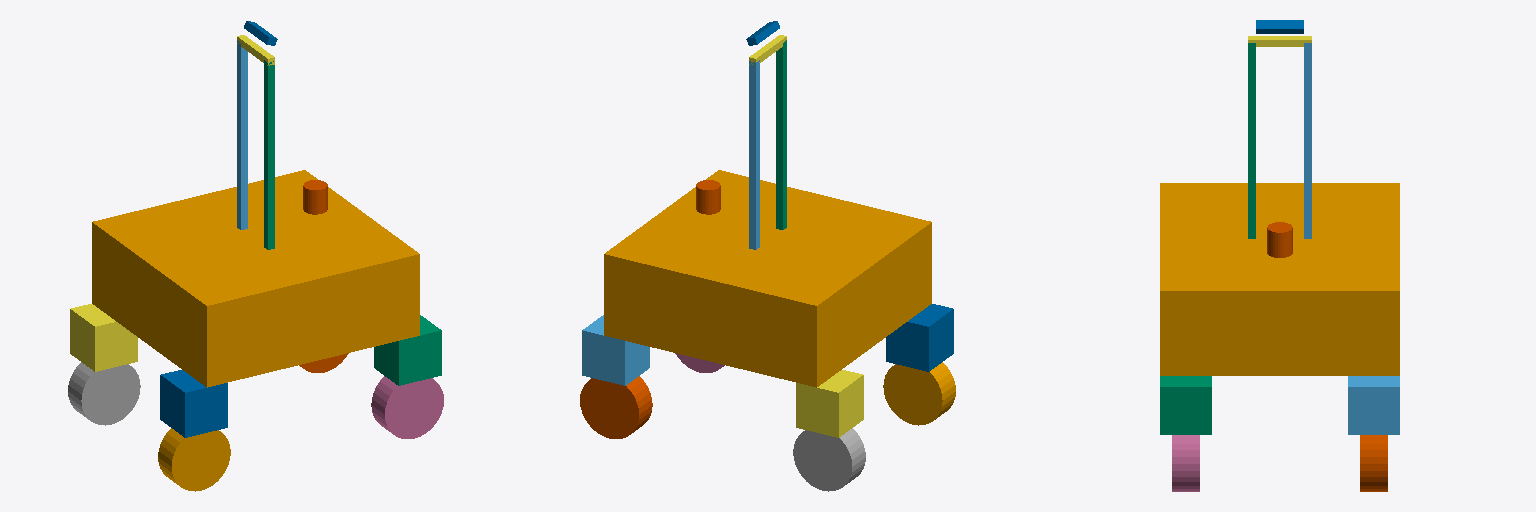
robot.urdf — steve:
<?xml version="1.0" ?>
<robot name="steve" xmlns:xacro="http://www.ros.org/wiki/xacro">
    <link name="link_base">
        <pose>0 0 0.606 0 0 0</pose>
        <inertial>
            <mass value="5"/>
            <origin xyz="0 0 0.606" rpy="0 0 0"/>
        <inertia ixx="0.1" ixy="0" ixz="0" iyy="0.1" iyz="0" izz="0.1"/>
        </inertial>
        <visual name="link_base_visual">
            <geometry>
                <box size="0.914 0.854 0.334"/>
            </geometry>
            <origin xyz="0 0 0.606" rpy="0 0 0"/>
        </visual>
        <collision name="link_base_collision">
            <geometry>
                <box size="0.914 0.854 0.334"/>
            </geometry>
            <origin xyz="0 0 0.606" rpy="0 0 0"/>
        </collision>
    </link>
    <link name="link_wheel_holder_3">
        <pose>0 0 -0.0925 0 0 0</pose>
        <inertial>
            <mass value="1"/>
            <origin xyz="0 0 -0.0925" rpy="0 0 0"/>
        <inertia ixx="0.1" ixy="0" ixz="0" iyy="0.1" iyz="0" izz="0.1"/>
        </inertial>
        <visual name="link_wheel_holder_3_visual">
            <geometry>
                <box size="0.185 0.185 0.185"/>
            </geometry>
            <origin xyz="0 0 -0.0925" rpy="0 0 0"/>
        </visual>
        <collision name="llink_wheel_holder_3_collision">
            <geometry>
                <box size="0.185 0.185 0.185"/>
            </geometry>
            <origin xyz="0 0 -0.0925" rpy="0 0 0"/>
        </collision>
    </link>
    <joint name="joint_link_link_base_wheel_holder_3" type="revolute">
        <origin rpy="0 0 0" xyz="0.457 0.3345 0.439"/>
        <axis rpy="0 0 0" xyz="0 0 1"/>
        <limit lower="-3.14" upper="3.14" effort="10" velocity="1.0"/>
        <dynamics damping="10.0" friction="0.5"/>
        <child link="link_wheel_holder_3"/>
        <parent link="link_base"/>
    </joint>
    <link name="link_wheel_holder_4">
        <pose>0 0 -0.0925 0 0 0</pose>
        <inertial>
            <mass value="1"/>
            <origin xyz="0 0 -0.0925" rpy="0 0 0"/>
        <inertia ixx="0.1" ixy="0" ixz="0" iyy="0.1" iyz="0" izz="0.1"/>
        </inertial>
        <visual name="link_wheel_holder_4_visual">
            <geometry>
                <box size="0.185 0.185 0.185"/>
            </geometry>
            <origin xyz="0 0 -0.0925" rpy="0 0 0"/>
        </visual>
        <collision name="llink_wheel_holder_4_collision">
            <geometry>
                <box size="0.185 0.185 0.185"/>
            </geometry>
            <origin xyz="0 0 -0.0925" rpy="0 0 0"/>
        </collision>
    </link>
    <joint name="joint_link_link_base_wheel_holder_4" type="revolute">
        <origin rpy="0 0 0" xyz="0.457 -0.3345 0.439"/>
        <axis rpy="0 0 0" xyz="0 0 1"/>
        <limit lower="-3.14" upper="3.14" effort="10" velocity="1.0"/>
        <dynamics damping="10.0" friction="0.5"/>
        <child link="link_wheel_holder_4"/>
        <parent link="link_base"/>
    </joint>
    <link name="link_wheel_holder_5">
        <pose>0 0 -0.0925 0 0 0</pose>
        <inertial>
            <mass value="1"/>
            <origin xyz="0 0 -0.0925" rpy="0 0 0"/>
        <inertia ixx="0.1" ixy="0" ixz="0" iyy="0.1" iyz="0" izz="0.1"/>
        </inertial>
        <visual name="link_wheel_holder_5_visual">
            <geometry>
                <box size="0.185 0.185 0.185"/>
            </geometry>
            <origin xyz="0 0 -0.0925" rpy="0 0 0"/>
        </visual>
        <collision name="llink_wheel_holder_5_collision">
            <geometry>
                <box size="0.185 0.185 0.185"/>
            </geometry>
            <origin xyz="0 0 -0.0925" rpy="0 0 0"/>
        </collision>
    </link>
    <joint name="joint_link_link_base_wheel_holder_5" type="revolute">
        <origin rpy="0 0 0" xyz="-0.457 0.3345 0.439"/>
        <axis rpy="0 0 0" xyz="0 0 1"/>
        <limit lower="-3.14" upper="3.14" effort="10" velocity="1.0"/>
        <dynamics damping="10.0" friction="0.5"/>
        <child link="link_wheel_holder_5"/>
        <parent link="link_base"/>
    </joint>
    <link name="link_wheel_holder_6">
        <pose>0 0 -0.0925 0 0 0</pose>
        <inertial>
            <mass value="1"/>
            <origin xyz="0 0 -0.0925" rpy="0 0 0"/>
        <inertia ixx="0.1" ixy="0" ixz="0" iyy="0.1" iyz="0" izz="0.1"/>
        </inertial>
        <visual name="link_wheel_holder_6_visual">
            <geometry>
                <box size="0.185 0.185 0.185"/>
            </geometry>
            <origin xyz="0 0 -0.0925" rpy="0 0 0"/>
        </visual>
        <collision name="llink_wheel_holder_6_collision">
            <geometry>
                <box size="0.185 0.185 0.185"/>
            </geometry>
            <origin xyz="0 0 -0.0925" rpy="0 0 0"/>
        </collision>
    </link>
    <joint name="joint_link_link_base_wheel_holder_6" type="revolute">
        <origin rpy="0 0 0" xyz="-0.457 -0.3345 0.439"/>
        <axis rpy="0 0 0" xyz="0 0 1"/>
        <limit lower="-3.14" upper="3.14" effort="10" velocity="1.0"/>
        <dynamics damping="10.0" friction="0.5"/>
        <child link="link_wheel_holder_6"/>
        <parent link="link_base"/>
    </joint>
    <link name="link_wheel_3">
        <pose>0 0 0 1.57 0 0</pose>
        <inertial>
            <mass value="1"/>
            <origin xyz="0 0 0" rpy="1.57 0 0"/>
        <inertia ixx="0.1" ixy="0" ixz="0" iyy="0.1" iyz="0" izz="0.1"/>
        </inertial>
        <visual name="link_wheel_3_visual">
            <geometry>
                <cylinder length="0.1" radius="0.127"/>
            </geometry>
            <origin xyz="0 0 0" rpy="1.57 0 0"/>
        </visual>
        <collision name="link_wheel_3_collision">
            <geometry>
                <cylinder length="0.1" radius="0.127"/>
            </geometry>
            <origin xyz="0 0 0" rpy="1.57 0 0"/>
        </collision>
    </link>
    <joint name="joint_link_wheel_holder_3_link_wheel_3" type="continuous">
        <origin rpy="0 0 0" xyz="0 0 -0.312"/>
        <axis rpy="0 0 0" xyz="0 1 0"/>
        <limit effort="10000" velocity="1000"/>
        <joint_properties damping="1.0" friction="1.0"/>
        <child link="link_wheel_3"/>
        <parent link="link_wheel_holder_3"/>
    </joint>
    <link name="link_wheel_4">
        <pose>0 0 0 1.57 0 0</pose>
        <inertial>
            <mass value="1"/>
            <origin xyz="0 0 0" rpy="1.57 0 0"/>
        <inertia ixx="0.1" ixy="0" ixz="0" iyy="0.1" iyz="0" izz="0.1"/>
        </inertial>
        <visual name="link_wheel_4_visual">
            <geometry>
                <cylinder length="0.1" radius="0.127"/>
            </geometry>
            <origin xyz="0 0 0" rpy="1.57 0 0"/>
        </visual>
        <collision name="link_wheel_4_collision">
            <geometry>
                <cylinder length="0.1" radius="0.127"/>
            </geometry>
            <origin xyz="0 0 0" rpy="1.57 0 0"/>
        </collision>
    </link>
    <joint name="joint_link_wheel_holder_4_link_wheel_4" type="continuous">
        <origin rpy="0 0 0" xyz="0 0 -0.312"/>
        <axis rpy="0 0 0" xyz="0 1 0"/>
        <limit effort="10000" velocity="1000"/>
        <joint_properties damping="1.0" friction="1.0"/>
        <child link="link_wheel_4"/>
        <parent link="link_wheel_holder_4"/>
    </joint>
    <link name="link_wheel_5">
        <pose>0 0 0 1.57 0 0</pose>
        <inertial>
            <mass value="1"/>
            <origin xyz="0 0 0" rpy="1.57 0 0"/>
        <inertia ixx="0.1" ixy="0" ixz="0" iyy="0.1" iyz="0" izz="0.1"/>
        </inertial>
        <visual name="link_wheel_5_visual">
            <geometry>
                <cylinder length="0.1" radius="0.127"/>
            </geometry>
            <origin xyz="0 0 0" rpy="1.57 0 0"/>
        </visual>
        <collision name="link_wheel_5_collision">
            <geometry>
                <cylinder length="0.1" radius="0.127"/>
            </geometry>
            <origin xyz="0 0 0" rpy="1.57 0 0"/>
        </collision>
    </link>
    <joint name="joint_link_wheel_holder_5_link_wheel_5" type="continuous">
        <origin rpy="0 0 0" xyz="0 0 -0.312"/>
        <axis rpy="0 0 0" xyz="0 1 0"/>
        <limit effort="10000" velocity="1000"/>
        <joint_properties damping="1.0" friction="1.0"/>
        <child link="link_wheel_5"/>
        <parent link="link_wheel_holder_5"/>
    </joint>
    <link name="link_wheel_6">
        <pose>0 0 0 1.57 0 0</pose>
        <inertial>
            <mass value="1"/>
            <origin xyz="0 0 0" rpy="1.57 0 0"/>
        <inertia ixx="0.1" ixy="0" ixz="0" iyy="0.1" iyz="0" izz="0.1"/>
        </inertial>
        <visual name="link_wheel_6_visual">
            <geometry>
                <cylinder length="0.1" radius="0.127"/>
            </geometry>
            <origin xyz="0 0 0" rpy="1.57 0 0"/>
        </visual>
        <collision name="link_wheel_6_collision">
            <geometry>
                <cylinder length="0.1" radius="0.127"/>
            </geometry>
            <origin xyz="0 0 0" rpy="1.57 0 0"/>
        </collision>
    </link>
    <joint name="joint_link_wheel_holder_6_link_wheel_6" type="continuous">
        <origin rpy="0 0 0" xyz="0 0 -0.312"/>
        <axis rpy="0 0 0" xyz="0 1 0"/>
        <limit effort="10000" velocity="1000"/>
        <joint_properties damping="1.0" friction="1.0"/>
        <child link="link_wheel_6"/>
        <parent link="link_wheel_holder_6"/>
    </joint>
    <!-- Plugins -->
       <!-- <gazebo>
        <plugin filename="libgazebo_ros_diff_drive.so" name="gazebo_base_controller">
            <odometry_frame>odom</odometry_frame>
            <commandTopic>cmd_vel</commandTopic>
            <publish_odom>true</publish_odom>
            <publish_odom_tf>true</publish_odom_tf>
            <update_rate>15.0</update_rate>
            <left_joint>joint_link_wheel_holder_3_link_wheel_3</left_joint>
            <right_joint>joint_link_wheel_holder_4_link_wheel_4</right_joint>
            <wheel_separation>0.606</wheel_separation>
            <wheel_diameter>0.254</wheel_diameter>
            <max_wheel_acceleration>0.7</max_wheel_acceleration>
            <robotBaseFrame>link_base</robotBaseFrame>
        </plugin>
    </gazebo>
       <gazebo>
        <plugin filename="libgazebo_ros_diff_drive.so" name="gazebo_base_controller1">
            <odometry_frame>odom</odometry_frame>
            <commandTopic>cmd_vel</commandTopic>
            <publish_odom>true</publish_odom>
            <publish_odom_tf>true</publish_odom_tf>
            <update_rate>15.0</update_rate>
            <left_joint>joint_link_wheel_holder_5_link_wheel_5</left_joint>
            <right_joint>joint_link_wheel_holder_6_link_wheel_6</right_joint>
            <wheel_separation>0.606</wheel_separation>
            <wheel_diameter>0.254</wheel_diameter>
            <max_wheel_acceleration>0.7</max_wheel_acceleration>
            <robotBaseFrame>link_base</robotBaseFrame>
        </plugin>
    </gazebo> -->
    <gazebo>
        <plugin name="ackermann_drive" filename="libackerman_drive_plugin.so">
            <updateRate>20</updateRate>
            <commandTopic>cmd_vel</commandTopic>
            <odometryTopic>odom</odometryTopic>
            <odometryFrame>odom</odometryFrame>
            <robotBaseFrame>link_base</robotBaseFrame>
            <publish_odom_tf>false</publish_odom_tf>
            <!-- Robot Dim -->
            <wheelRadius>0.127</wheelRadius>
            <wheelSeperation>0.914</wheelSeperation>
            <wheelBase>0.854</wheelBase>
            <!-- Wheel Joints -->
            <front_left_wheel_joint>joint_link_wheel_holder_3_link_wheel_3</front_left_wheel_joint>
            <front_right_wheel_joint>joint_link_wheel_holder_4_link_wheel_4</front_right_wheel_joint>
            <back_left_wheel_joint>joint_link_wheel_holder_5_link_wheel_5</back_left_wheel_joint>
            <back_right_wheel_joint>joint_link_wheel_holder_6_link_wheel_6</back_right_wheel_joint>
            <!-- Stepper Joints -->
            <front_left_stepper_joint>joint_link_link_base_wheel_holder_3</front_left_stepper_joint>
            <front_right_stepper_joint>joint_link_link_base_wheel_holder_4</front_right_stepper_joint>
            <back_left_stepper_joint>joint_link_link_base_wheel_holder_5</back_left_stepper_joint>
            <back_right_stepper_joint>joint_link_link_base_wheel_holder_6</back_right_stepper_joint>
        </plugin>
    </gazebo>
    <!-- Colors -->
    <gazebo reference="link_base">
        <material>Gazebo/Orange</material>
    </gazebo>
    <gazebo reference="link_wheel_3">
        <material>Gazebo/Blue</material>
    </gazebo>
    <gazebo reference="link_wheel_4">
        <material>Gazebo/Blue</material>
    </gazebo>
    <gazebo reference="link_wheel_5">
        <material>Gazebo/Blue</material>
    </gazebo>
    <gazebo reference="link_wheel_6">
        <material>Gazebo/Blue</material>
    </gazebo>
    <gazebo reference="link_wheel_holder_3">
        <material>Gazebo/Green</material>
    </gazebo>
    <gazebo reference="link_wheel_holder_4">
        <material>Gazebo/Green</material>
    </gazebo>
    <gazebo reference="link_wheel_holder_5">
        <material>Gazebo/Green</material>
    </gazebo>
    <gazebo reference="link_wheel_holder_6">
        <material>Gazebo/Green</material>
    </gazebo>
    <!-- Camera Construction-->
    <link name="link_camera_support_left">
        <pose>0 0 0 0 0 0</pose>
        <inertial>
            <mass value="0.3"/>
            <origin xyz="0 0 0" rpy="0 0 0"/>
        <inertia ixx="0.1" ixy="0" ixz="0" iyy="0.1" iyz="0" izz="0.1"/>
        </inertial>
        <visual name="link_camera_support_left_visual">
            <geometry>
                <box size="0.03 0.03 0.768"/>
            </geometry>
            <origin xyz="0 0 0" rpy="0 0 0"/>
        </visual>
        <collision name="link_camera_support_left_collision">
            <geometry>
                <box size="0.03 0.03 0.768"/>
            </geometry>
            <origin xyz="0 0 0" rpy="0 0 0"/>
        </collision>
    </link>
    <joint name="joint_link_base_link_camera_support_left" type="fixed">
        <origin rpy="0 0 0" xyz="0 0.1 1.157"/>
        <child link="link_camera_support_left"/>
        <parent link="link_base"/>
    </joint>
    <link name="link_camera_support_right">
        <pose>0 0 0 0 0 0</pose>
        <inertial>
            <mass value="0.3"/>
            <origin xyz="0 0 0" rpy="0 0 0"/>
        <inertia ixx="0.1" ixy="0" ixz="0" iyy="0.1" iyz="0" izz="0.1"/>
        </inertial>
        <visual name="link_camera_support_right_visual">
            <geometry>
                <box size="0.03 0.03 0.768"/>
            </geometry>
            <origin xyz="0 0 0" rpy="0 0 0"/>
        </visual>
        <collision name="link_camera_support_right_collision">
            <geometry>
                <box size="0.03 0.03 0.768"/>
            </geometry>
            <origin xyz="0 0 0" rpy="0 0 0"/>
        </collision>
    </link>
    <joint name="joint_link_base_link_camera_support_right" type="fixed">
        <origin rpy="0 0 0" xyz="0 -0.1 1.157"/>
        <child link="link_camera_support_right"/>
        <parent link="link_base"/>
    </joint>
    <link name="link_camera_support">
        <pose>0 0 0 0 0 0</pose>
        <inertial>
            <mass value="0.3"/>
            <origin xyz="0 0 0" rpy="0 0 0"/>
        <inertia ixx="0.1" ixy="0" ixz="0" iyy="0.1" iyz="0" izz="0.1"/>
        </inertial>
        <visual name="link_camera_support_visual">
            <geometry>
                <box size="0.03 0.23 0.03"/>
            </geometry>
            <origin xyz="0 0 0" rpy="0 0 0"/>
        </visual>
        <collision name="link_camera_support_collision">
            <geometry>
                <box size="0.03 0.23 0.03"/>
            </geometry>
            <origin xyz="0 0 0" rpy="0 0 0"/>
        </collision>
    </link>
    <joint name="joint_link_camera_support_right_camera_support" type="fixed">
        <origin rpy="0 0 0" xyz="0 0.1 0.384"/>
        <child link="link_camera_support"/>
        <parent link="link_camera_support_right"/>
    </joint>
    <link name="link_camera_zed2i">
        <pose>0 0 0 0 0 0</pose>
        <inertial>
            <mass value="0.3"/>
            <origin xyz="0 0 0" rpy="0 0 0"/>
        <inertia ixx="0.1" ixy="0" ixz="0" iyy="0.1" iyz="0" izz="0.1"/>
        </inertial>
        <visual name="link_camera_zed2i_visual">
            <geometry>
                <box size="0.04 0.17 0.03"/>
            </geometry>
            <origin xyz="0 0 0" rpy="0 0 0"/>
        </visual>
        <collision name="link_camera_zed2i_collision">
            <geometry>
                <box size="0.04 0.17 0.03"/>
            </geometry>
            <origin xyz="0 0 0" rpy="0 0 0"/>
        </collision>
    </link>
    <joint name="joint_link_camera_support_link_camera_zed2i" type="fixed">
        <origin rpy="0 0.4 0" xyz="0.02 0 0.065"/>
        <child link="link_camera_zed2i"/>
        <parent link="link_camera_support"/>
    </joint>

    <!-- Camera Plugin -->
    <gazebo reference="link_camera_zed2i">
        <sensor type="camera" name="monocamera">
            <always_on>1</always_on>
            <update_rate>25</update_rate>
            <visualize>false</visualize>
            <camera>
                <horizontal_fov>1.9</horizontal_fov>
                <image>
                    <width>640</width>
                    <height>360</height>
                    <format>R8G8B8</format>
                </image>
                <clip>
                    <near>0.5</near>
                    <far>20</far>
                </clip>
                <noise>
                    <type>none</type>
                </noise>
            </camera>
            <plugin name="camera_controller" filename="libgazebo_ros_camera.so">
                    <ros>
                        <namespace>zed_node</namespace>
                        <remapping>image_raw:=stereocamera/image_raw</remapping>
                        <remapping>camera_info:=stereocamera/camera_info</remapping>
                    </ros>
                    <camera_name>monocamera</camera_name>
                    <frame_name>link_camera_zed2i</frame_name>
            </plugin>
        </sensor>
  </gazebo>

    <gazebo reference="link_camera_support_left">
        <material>Gazebo/Red</material>
    </gazebo>
    <gazebo reference="link_camera_support_right">
        <material>Gazebo/Red</material>
    </gazebo>
    <gazebo reference="link_camera_support">
        <material>Gazebo/Red</material>
    </gazebo>
    <gazebo reference="link_camera_zed2i">
        <material>Gazebo/Indigo</material>
    </gazebo>
    <!-- Lidar -->
    <link name="link_lidar">
        <visual name="link_lidar_visual">
            <geometry>
                <cylinder radius="0.045" length="0.1"/>
            </geometry>
        </visual>
    </link>
    <joint name="joint_link_base_link_lidar" type="fixed">
        <!-- <origin rpy="0 0 0" xyz="0.255 0 0.823"/> -->
        <origin rpy="0 0 0" xyz="0.255 0 0.88"/>
        <child link="link_lidar"/>
        <parent link="link_base"/>
    </joint>
    <gazebo reference="link_lidar">
        <material>Gazebo/Black</material>
    </gazebo>
    <!-- Lidar Sensor Plugin-->
    <gazebo reference="link_lidar">
      <sensor type="gpu_ray" name="laser">
        <always_on>true</always_on>
        <update_rate>25</update_rate>
        <visualize>false</visualize>
        <ray>
          <scan>
            <horizontal>
              <samples>512</samples>
              <resolution>1</resolution>
              <min_angle>-3.14159</min_angle>
              <max_angle>3.14159</max_angle>
            </horizontal>
            <vertical>
              <samples>16</samples>
              <resolution>1</resolution>
              <min_angle>-0.25</min_angle>
              <max_angle>0.05</max_angle>
            </vertical>
          </scan>
          <range>
            <min>0.055</min>
            <max>50</max>
            <resolution>0.01</resolution>
          </range>
          <noise>
            <type>none</type>
          </noise>
        </ray>
        <plugin name="lidar_controller" filename="libgazebo_ros_ray_sensor.so">
          <ros>
            <remapping>~/out:=scan</remapping>
          </ros>
          <output_type>sensor_msgs/PointCloud2</output_type>
            <frame_name>link_lidar</frame_name>
          </plugin>
      </sensor>
    </gazebo>
  <!-- IMU -->
  <joint name="link_imu_joint" type="fixed">
        <parent link="link_camera_support"/>
        <child link="link_imu"/>
        <origin xyz="0 0 0" rpy="0 0 0" />
    </joint>
    <link name="link_imu" />
  <gazebo reference="link_imu">
        <sensor name="imu_sensor" type="imu">
            <plugin filename="libgazebo_ros_imu_sensor.so" name="imu_plugin">
                <ros>
                    <namespace>/</namespace>
                    <remapping>~/out:=imu</remapping>
                </ros>
                <initial_orientation_as_reference>false</initial_orientation_as_reference>
            </plugin>
            <always_on>true</always_on>
            <update_rate>40</update_rate>
        </sensor>
    </gazebo>
    <gazebo reference="link_base">
    <sensor name="gps_sensor" type="gps">
        <always_on>true</always_on>
        <update_rate>10.0</update_rate>
        <plugin name="gps_plugin" filename="libgazebo_ros_gps_sensor.so">
            <ros>
                <remapping>~/out:=gps/fix</remapping>
            </ros>
            <frame_name>link_base</frame_name>
        </plugin>
        <gps>
            <position_sensing>
                <horizontal>
                    <noise type="gaussian">
                        <mean>0.0</mean>
                        <stddev>0.01</stddev>
                    </noise>
                </horizontal>
                <vertical>
                    <noise type="gaussian">
                        <mean>0.0</mean>
                        <stddev>0.01</stddev>
                    </noise>
                </vertical>
            </position_sensing>
        </gps>
    </sensor>
  </gazebo>
  <gazebo>
  <plugin name="gazebo_ros_joint_state_publisher" filename="libgazebo_ros_joint_state_publisher.so">
    <ros>
      <remapping>~/out:=joint_states</remapping>
    </ros>
    <update_rate>30</update_rate>
    <joint_name>joint_link_link_base_wheel_holder_3</joint_name>
    <joint_name>joint_link_link_base_wheel_holder_4</joint_name>
    <joint_name>joint_link_link_base_wheel_holder_5</joint_name>
    <joint_name>joint_link_link_base_wheel_holder_6</joint_name>
    
    <joint_name>joint_link_wheel_holder_3_link_wheel_3</joint_name>
    <joint_name>joint_link_wheel_holder_4_link_wheel_4</joint_name>
    <joint_name>joint_link_wheel_holder_5_link_wheel_5</joint_name>
    <joint_name>joint_link_wheel_holder_6_link_wheel_6</joint_name>
  </plugin>
</gazebo>
</robot>

--- Render facts (derived) ---
3 views of the same robot in one strip: view 1: azimuth 30°, elevation 25°; view 2: azimuth 150°, elevation 25°; view 3: azimuth 270°, elevation 25° (orthographic).
Model steve with 15 links and 14 joints (4 revolute, 4 continuous, 6 fixed), rooted at link_base, posed all joints at 0.
Links seen in each view (by area): view 1: link_base, link_wheel_holder_6, link_wheel_6, link_wheel_4, link_wheel_5, link_wheel_holder_5, link_wheel_holder_4, link_camera_support_right, link_camera_support_left, link_lidar; view 2: link_base, link_wheel_holder_5, link_wheel_5, link_wheel_3, link_wheel_6, link_wheel_holder_6, link_wheel_holder_3, link_camera_support_left, link_camera_support_right, link_lidar; view 3: link_base, link_wheel_holder_3, link_wheel_holder_4, link_wheel_3, link_wheel_4, link_camera_support_left, link_camera_support_right, link_lidar, link_camera_zed2i, link_camera_support.
Boxes of the visible links, left/top/right/bottom form: link_base: left=92, top=170, right=419, bottom=387; link_wheel_holder_6: left=160, top=370, right=227, bottom=437; link_wheel_6: left=158, top=428, right=230, bottom=491; link_wheel_4: left=371, top=376, right=443, bottom=438; link_wheel_5: left=68, top=362, right=140, bottom=425; link_wheel_holder_5: left=70, top=304, right=137, bottom=371; link_wheel_holder_4: left=374, top=315, right=441, bottom=385; link_camera_support_right: left=264, top=60, right=274, bottom=249; link_camera_support_left: left=237, top=40, right=247, bottom=229; link_lidar: left=303, top=180, right=327, bottom=214; link_base: left=604, top=170, right=931, bottom=387; link_wheel_holder_5: left=796, top=370, right=863, bottom=437; link_wheel_5: left=793, top=428, right=865, bottom=491; link_wheel_3: left=580, top=376, right=652, bottom=438; link_wheel_6: left=883, top=362, right=955, bottom=425; link_wheel_holder_6: left=886, top=304, right=953, bottom=371; link_wheel_holder_3: left=582, top=315, right=649, bottom=385; link_camera_support_left: left=749, top=60, right=759, bottom=249; link_camera_support_right: left=776, top=40, right=786, bottom=229; link_lidar: left=696, top=180, right=720, bottom=214; link_base: left=1160, top=183, right=1399, bottom=375; link_wheel_holder_3: left=1348, top=376, right=1399, bottom=434; link_wheel_holder_4: left=1160, top=376, right=1211, bottom=434; link_wheel_3: left=1360, top=435, right=1387, bottom=491; link_wheel_4: left=1172, top=435, right=1199, bottom=491; link_camera_support_left: left=1304, top=43, right=1311, bottom=238; link_camera_support_right: left=1248, top=43, right=1255, bottom=238; link_lidar: left=1267, top=222, right=1292, bottom=257; link_camera_zed2i: left=1256, top=20, right=1303, bottom=33; link_camera_support: left=1248, top=36, right=1311, bottom=46.
Bounding box of the posed robot: 1.17 × 0.854 × 1.63 m (x, y, z).
Geometry: primitives only (box / cylinder / sphere), no mesh files.
